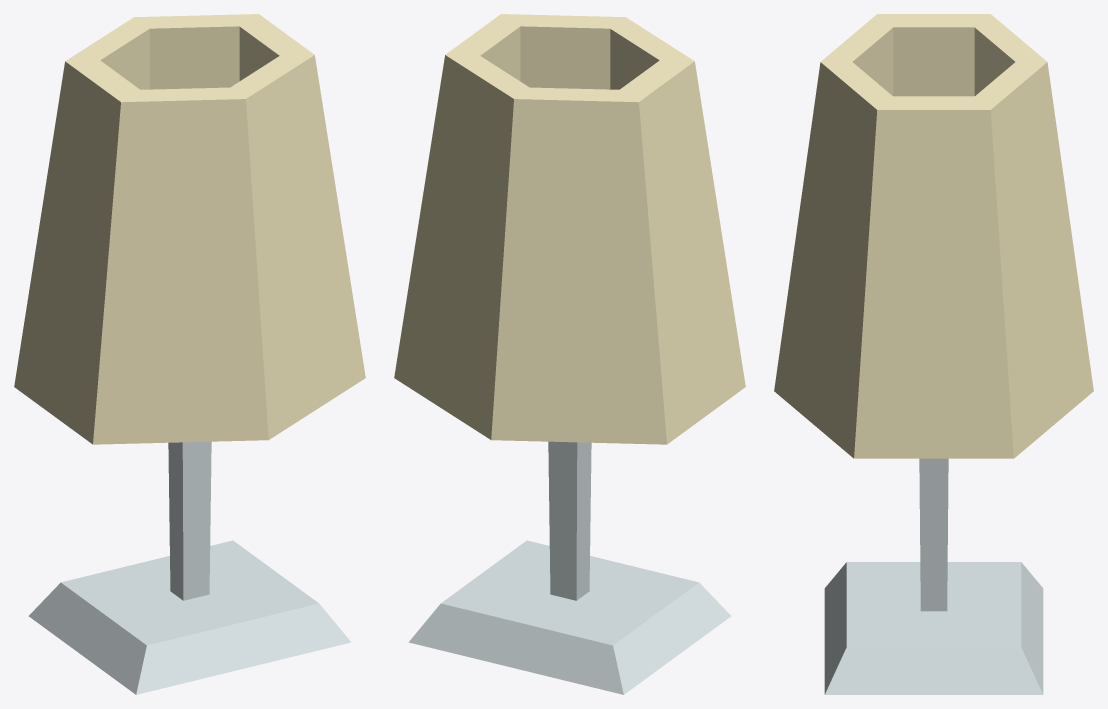
3 renders of one model, left to right at view 1: azimuth 30°, elevation 25°; view 2: azimuth 150°, elevation 25°; view 3: azimuth 270°, elevation 25°, orthographic.
Parts seen in each view (by area): view 1: lampRoundTable(Clone); view 2: lampRoundTable(Clone); view 3: lampRoundTable(Clone).
Part boxes in pixels (x1,y1,x2,y2): lampRoundTable(Clone): (14,14,365,694); lampRoundTable(Clone): (394,14,745,694); lampRoundTable(Clone): (774,14,1093,694).
Bounding box in the file's own units: 0.24 × 0.48 × 0.24.
